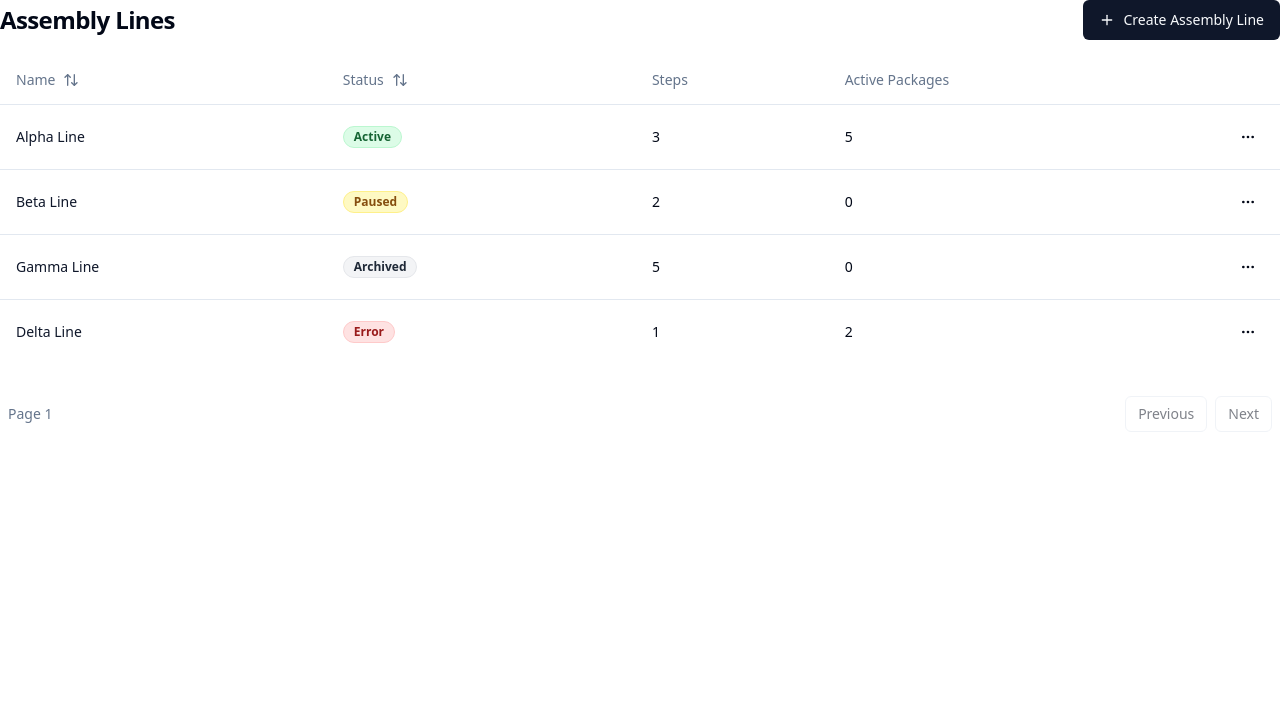
it: AssemblyLineListPage › Confirmation dialog › opens a confirmation dialog when Resume is clicked
The image size is (1280, 720).
Expected: the link "Beta Line" is shown, [16, 192, 77, 210]
Click the button named "Open actions for" in the row of "Beta Line" at coordinates (1248, 202), box [1232, 186, 1264, 218]
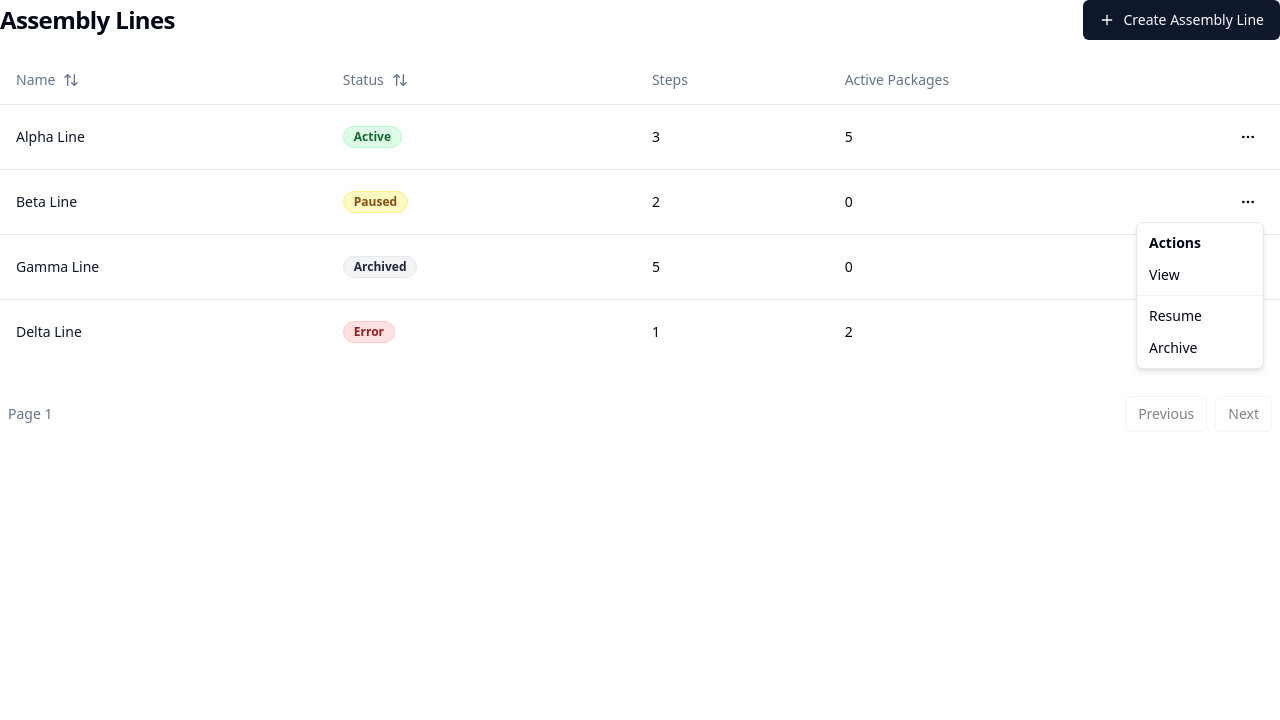
Click the menu item "Resume" at coordinates (1176, 316), box [1149, 306, 1202, 325]
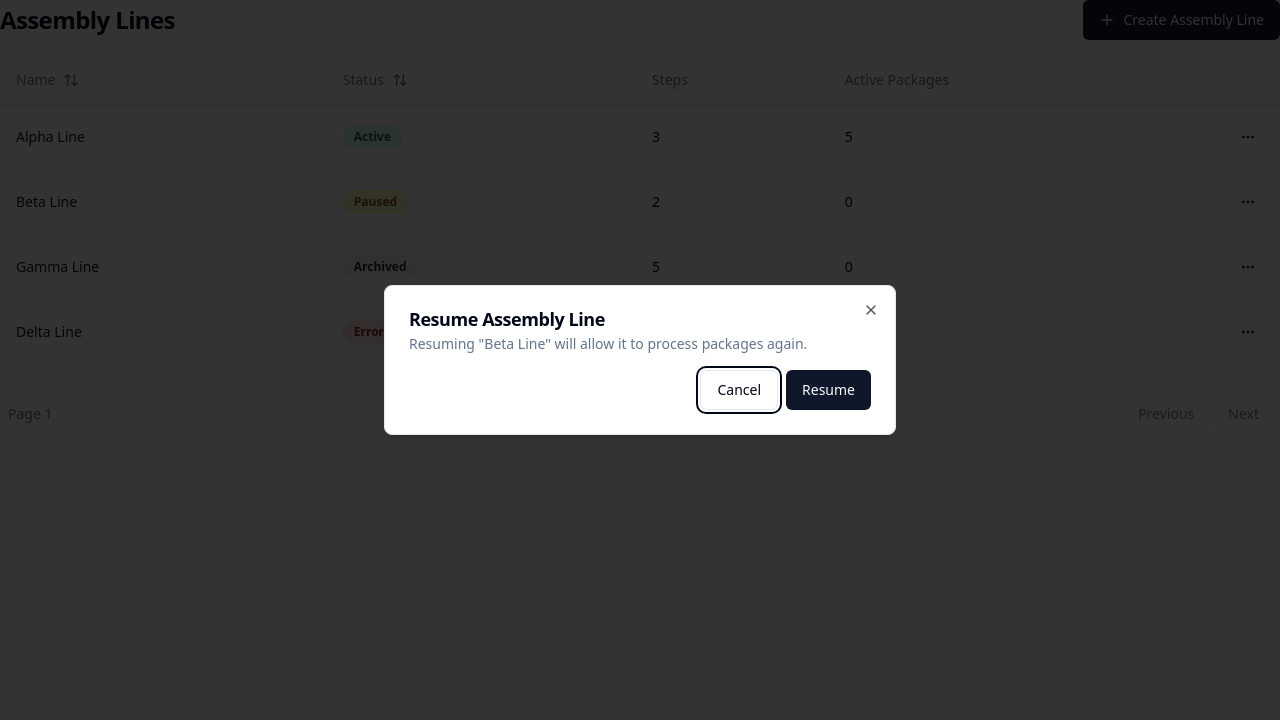
Expected: the heading "Resume Assembly Line" is shown, [409, 307, 605, 331]
